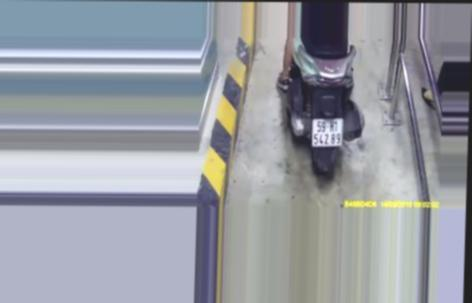License_Plate: (308, 115, 345, 150)
